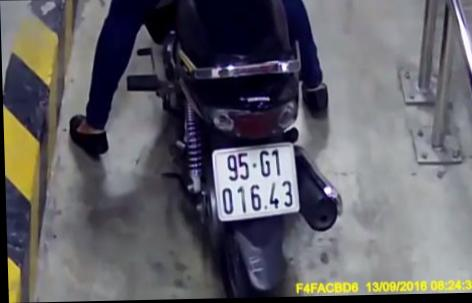LP: (210, 142, 301, 224)
